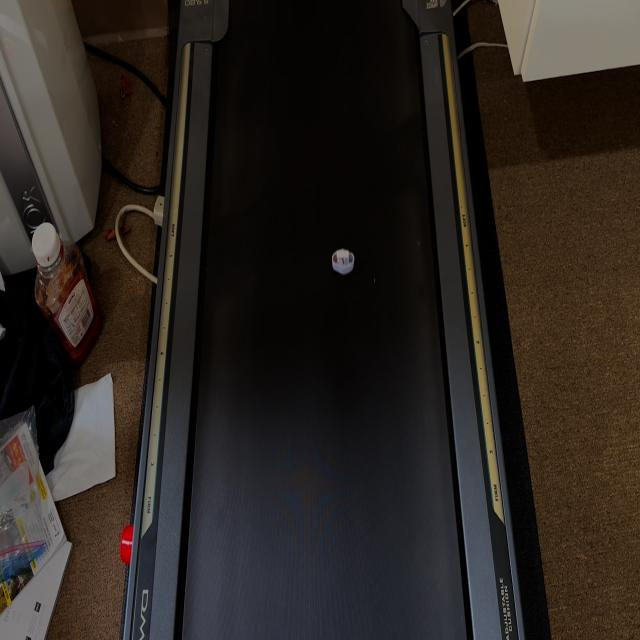Recycle: (331, 249, 355, 275)
